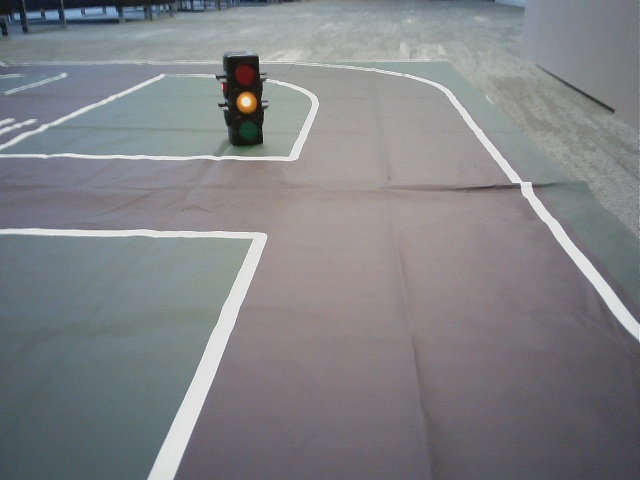yellow: (226, 58, 263, 142)
